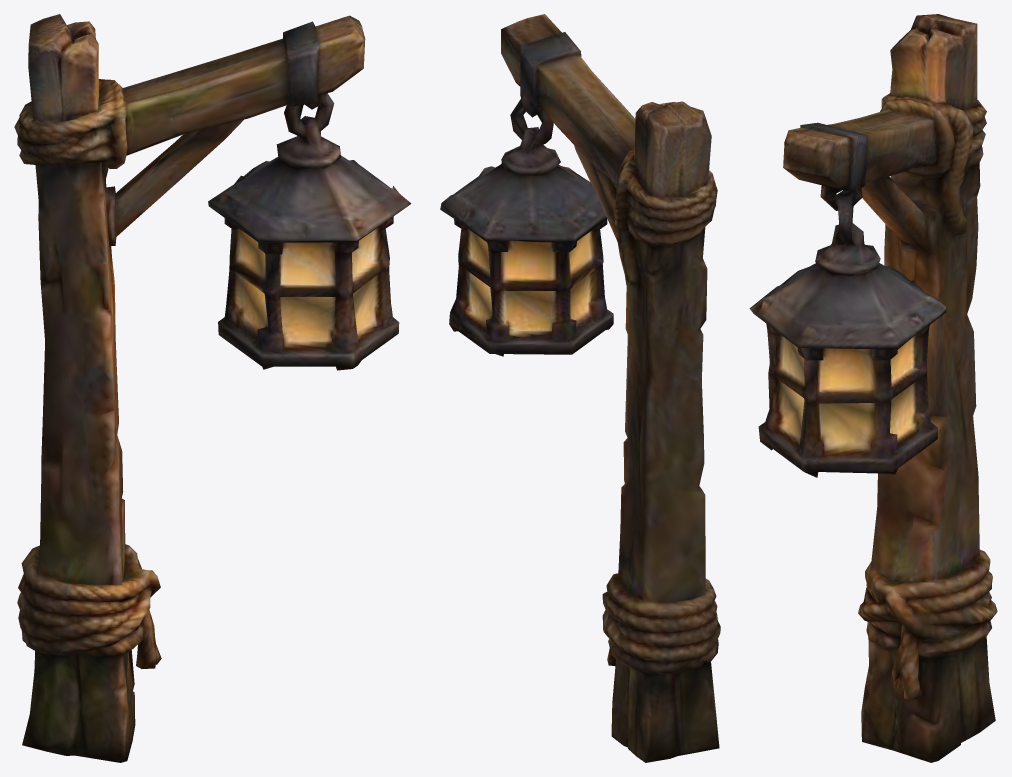
The model's file is prop-lantern-post-v2-mobile.glb.
3 renders of one model, left to right at view 1: azimuth 30°, elevation 25°; view 2: azimuth 150°, elevation 25°; view 3: azimuth 270°, elevation 25°, orthographic. The views are drawn at different scales.
Visible parts, largest first — view 1: tripo_node_ab763b4f-d258-47ee-bccc-f83e04b6fea0; view 2: tripo_node_ab763b4f-d258-47ee-bccc-f83e04b6fea0; view 3: tripo_node_ab763b4f-d258-47ee-bccc-f83e04b6fea0.
Part boxes in pixels (left/top/right/bottom): tripo_node_ab763b4f-d258-47ee-bccc-f83e04b6fea0: left=14, top=14, right=411, bottom=762; tripo_node_ab763b4f-d258-47ee-bccc-f83e04b6fea0: left=440, top=14, right=720, bottom=762; tripo_node_ab763b4f-d258-47ee-bccc-f83e04b6fea0: left=749, top=14, right=997, bottom=762.
Bounding box in the file's own units: 0.4655 × 0.9775 × 0.3092.
Materials: 1 (1 with a texture image).
